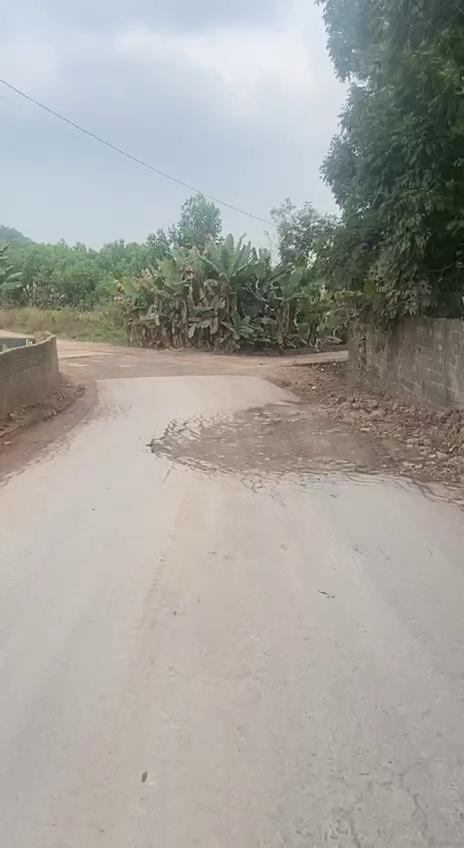pothole: (156, 396, 390, 477)
